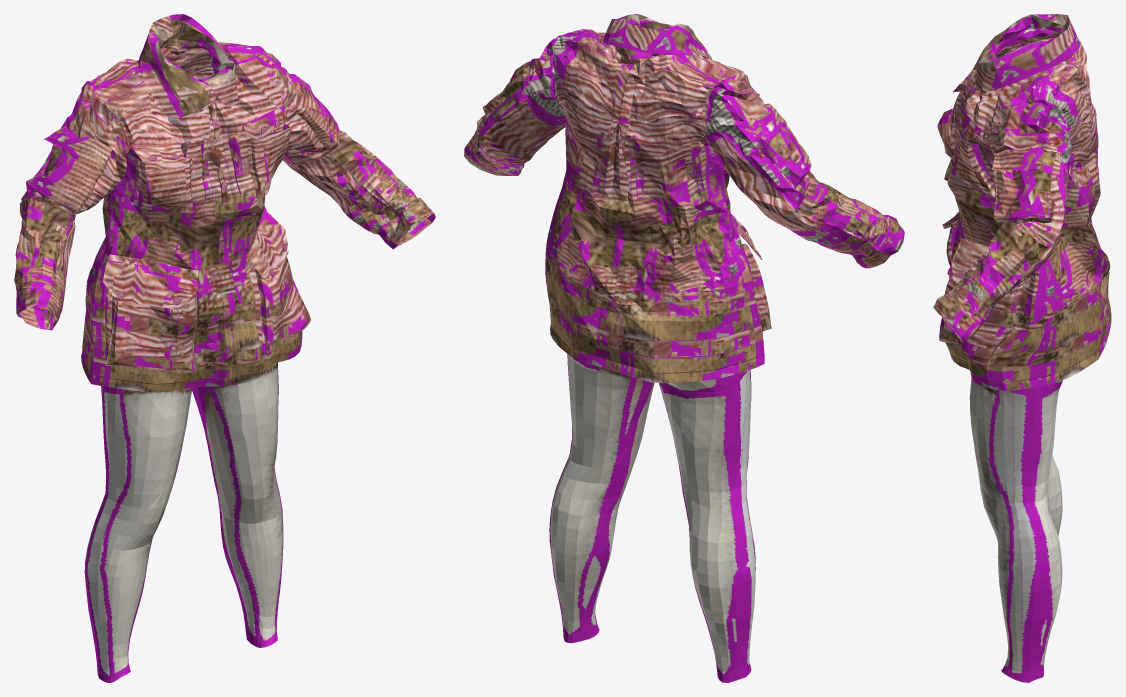
3 views of the same model, side by side, from view 1: azimuth 30°, elevation 25°; view 2: azimuth 150°, elevation 25°; view 3: azimuth 270°, elevation 25° (orthographic). The views are drawn at different scales.
Size of the model in its own units: 0.5918 by 0.8445 by 0.2198.
1 material, 1 textured.
